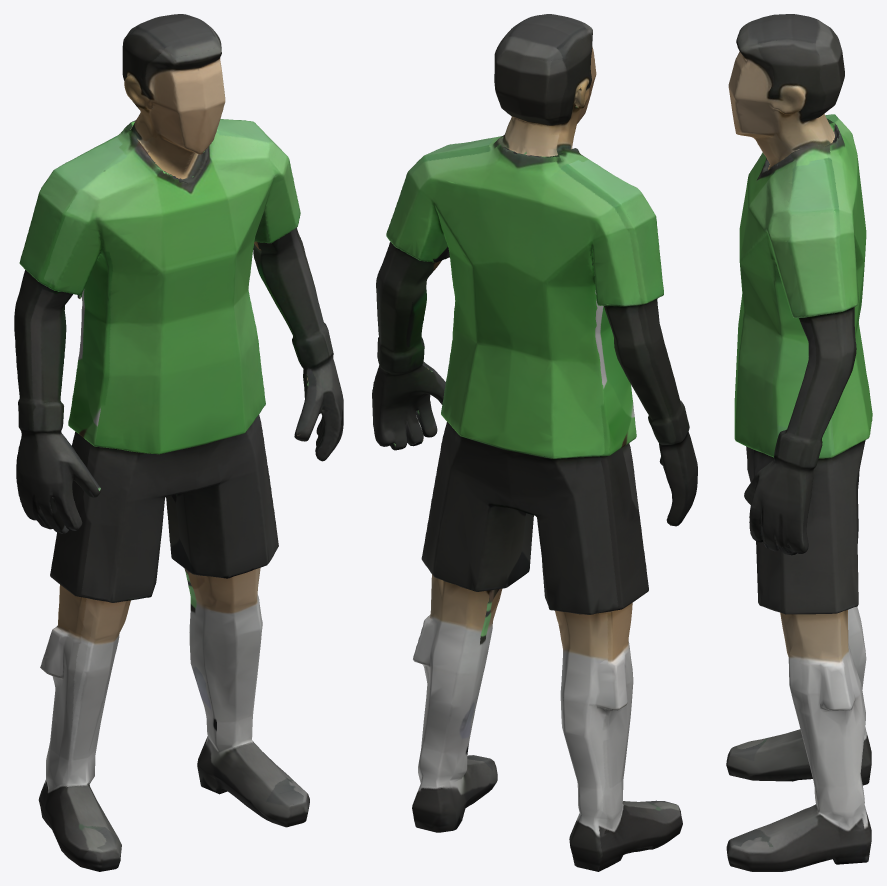
The model's file is GoalKeeper_fbx.fbx.
3 renders of one model, left to right at view 1: azimuth 30°, elevation 25°; view 2: azimuth 150°, elevation 25°; view 3: azimuth 270°, elevation 25°, orthographic.
Parts seen in each view (by area): view 1: Goalkeeper; view 2: Goalkeeper; view 3: Goalkeeper.
Boxes of the visible parts, box(x1,y1,x2,y2) form: Goalkeeper: box(14, 14, 343, 871); Goalkeeper: box(372, 14, 697, 871); Goalkeeper: box(726, 14, 872, 871).
Bounding box in the file's own units: 41.79 × 100 × 16.68.
